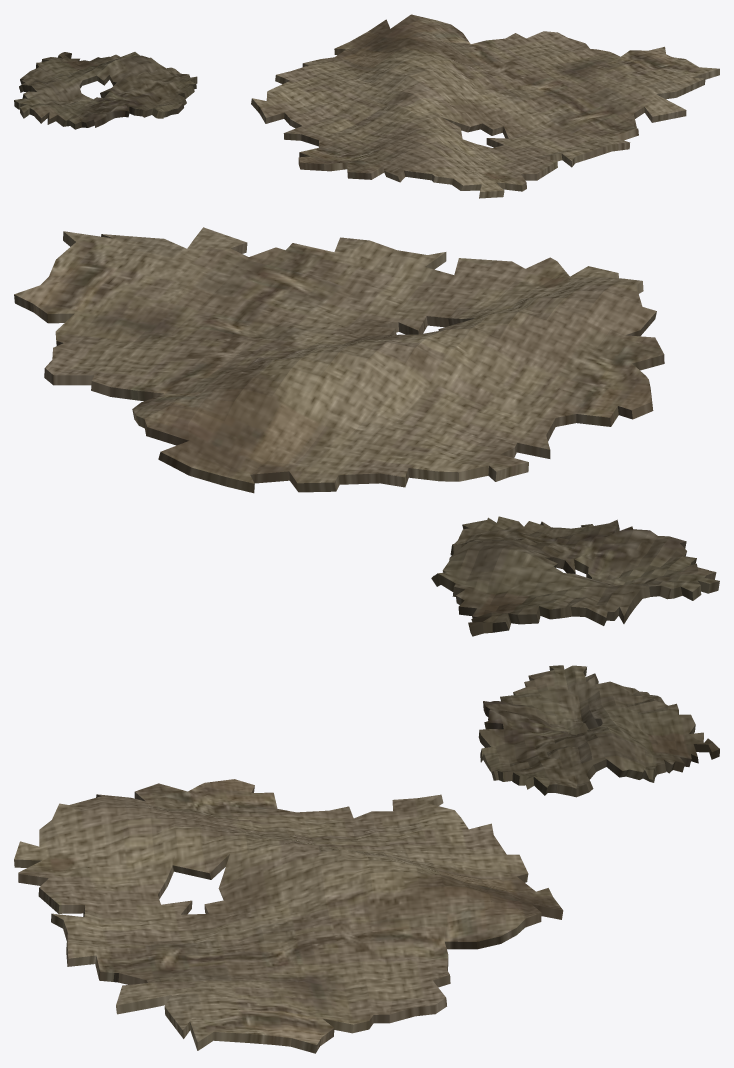
File: junk_rags_d.glb
The picture shows the model from 3 angles, top to bottom: view 1: azimuth 30°, elevation 25°; view 2: azimuth 150°, elevation 25°; view 3: azimuth 270°, elevation 25°; orthographic projection. The views are drawn at different scales.
Visible parts, largest first — view 1: model; view 2: model; view 3: model.
Part boxes in pixels (x1,y1,x2,y2): model: (14,14,719,198); model: (14,227,719,636); model: (14,665,719,1053).
Bounding box in the file's own units: 0.5511 × 0.0341 × 0.4362.
Materials: 2 (2 with a texture image).
